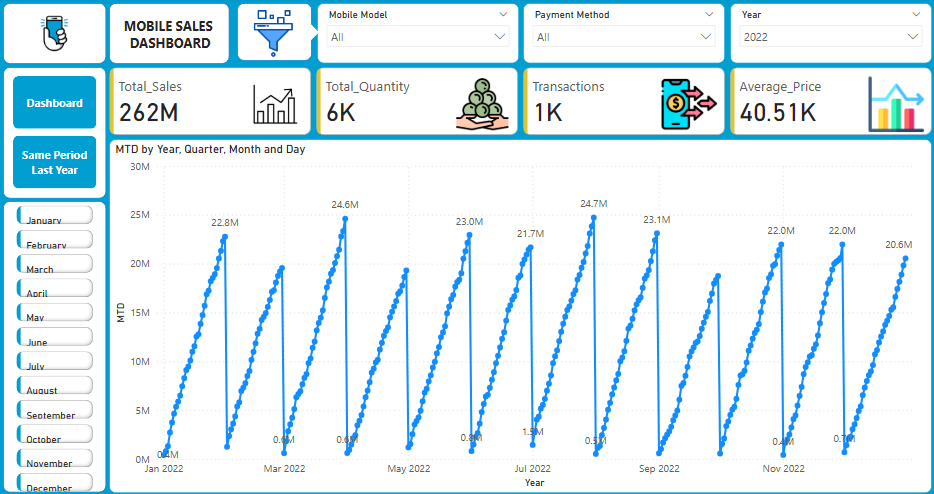

What the dashboard file says about the page in this screenshot:
{"tool":"powerbi","page":{"name":"MTD Report","canvas":[1355,720],"ordinal":1},"visuals":[{"type":"shape","box":[8.7,7.3,148.6,87.4],"z":0},{"type":"image","box":[45.2,11.7,75.8,78.7],"z":1000},{"type":"shape","box":[8.7,99.1,148.6,189.4],"z":2000},{"type":"cardVisual","fields":{"Data":["Mobile Sales data.Total_Sales","Mobile Sales data.Total_Quantity","Mobile Sales data.Transactions","Mobile Sales data.Average_Price"]},"box":[157.4,94.7,1196,107.8],"z":3000},{"type":"slicer","fields":{"Values":["Mobile Sales data.Mobile Model"]},"box":[460.4,7.3,291.4,87.4],"z":4000},{"type":"slicer","fields":{"Values":["Mobile Sales data.Payment Method"]},"box":[757.6,7.3,291.4,87.4],"z":5000},{"type":"slicer","fields":{"Values":["Custom_Calender.Date.Variation.Date Hierarchy.Year"]},"box":[1054.9,7.3,291.4,87.4],"z":6000},{"type":"shape","box":[345.3,7.3,107.8,83],"z":7000},{"type":"image","box":[303.1,11.7,190.9,78.7],"z":8000},{"type":"shape","box":[426.9,35,37.9,29.1],"z":9000},{"type":"shape","box":[161.7,7.3,173.4,87.4],"z":10000},{"type":"textbox","box":[174.8,17.5,150.1,67],"z":11000},{"type":"shape","box":[8.7,292.9,148.6,419.6],"z":12000},{"type":"advancedSlicerVisual","fields":{"Values":["Custom_Calender.Date.Variation.Date Hierarchy.Month"]},"box":[23.3,293.3,120,426.7],"z":13000},{"type":"lineChart","fields":{"Category":["Custom_Calender.Date.Variation.Date Hierarchy.Year","Custom_Calender.Date.Variation.Date Hierarchy.Quarter","Custom_Calender.Date.Variation.Date Hierarchy.Month","Custom_Calender.Date.Variation.Date Hierarchy.Day"],"Y":["Mobile Sales data.MTD"]},"box":[161.7,203.3,1185,510],"z":14000},{"type":"pageNavigator","box":[23.3,111.7,120,163.3],"z":15000}]}

Visuals, with their boxes in screenshot pixels (x1, y1, x2, y2), scaled from the page's 1355x720 canvas onto the 934x494 screenshot:
shape: 6, 5, 108, 65
image: 31, 8, 83, 62
shape: 6, 68, 108, 198
cardVisual - Mobile Sales data.Total_Sales x Mobile Sales data.Total_Quantity: 108, 65, 933, 139
slicer - Mobile Sales data.Mobile Model: 317, 5, 518, 65
slicer - Mobile Sales data.Payment Method: 522, 5, 723, 65
slicer - Custom_Calender.Date.Variation.Date Hierarchy.Year: 727, 5, 928, 65
shape: 238, 5, 312, 62
image: 209, 8, 341, 62
shape: 294, 24, 320, 44
shape: 111, 5, 231, 65
textbox: 120, 12, 224, 58
shape: 6, 201, 108, 489
advancedSlicerVisual - Custom_Calender.Date.Variation.Date Hierarchy.Month: 16, 201, 99, 493
lineChart - Custom_Calender.Date.Variation.Date Hierarchy.Year x Custom_Calender.Date.Variation.Date Hierarchy.Quarter: 111, 139, 928, 489
pageNavigator: 16, 77, 99, 189
